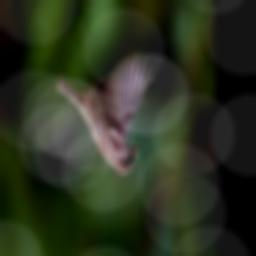Sparrow: (57, 52, 154, 175)
